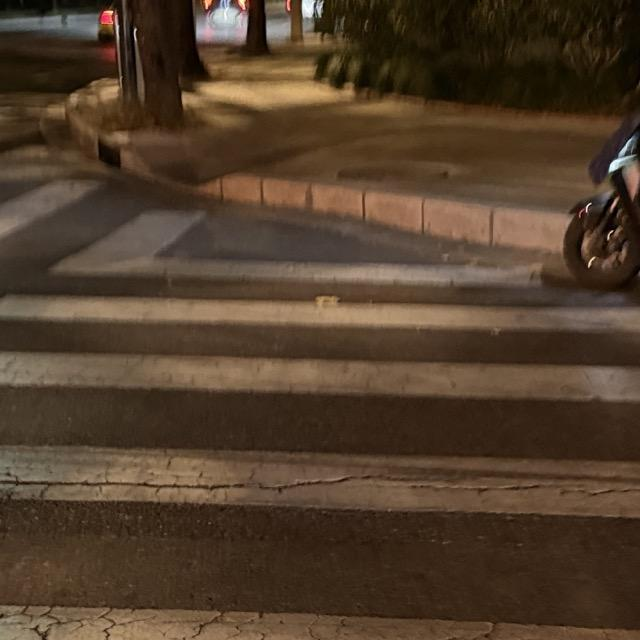curb: (177, 174, 570, 258), (65, 93, 153, 178)
